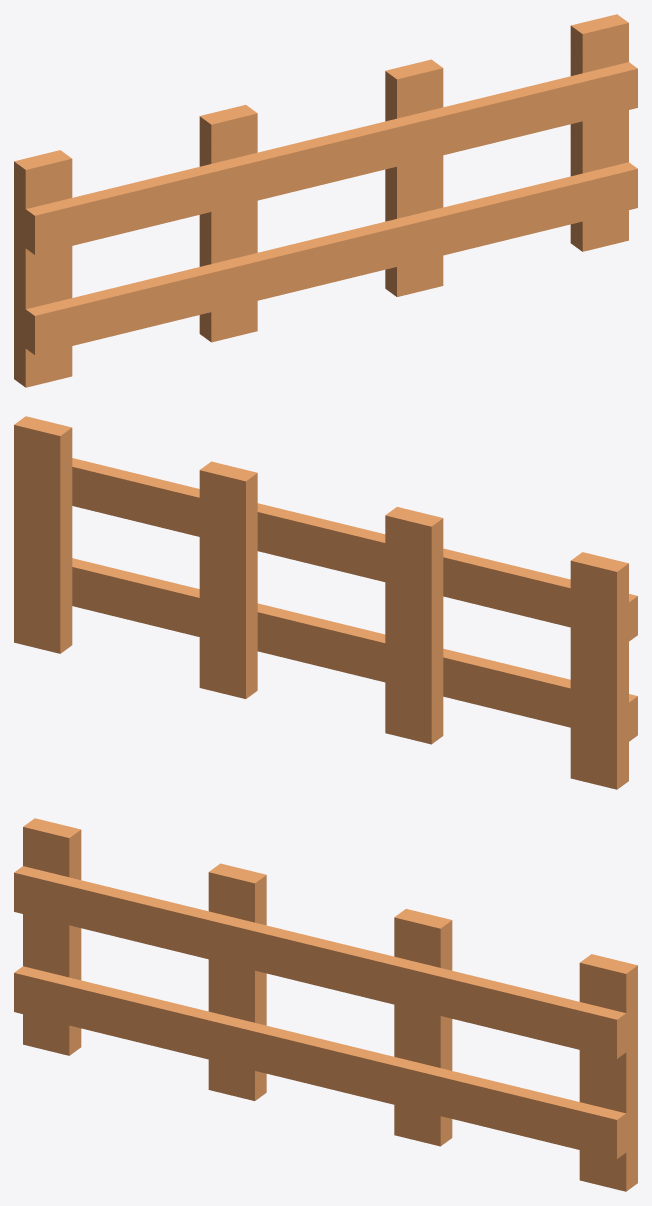
The model's file is fence_double.glb.
3 renders of one model, top to bottom at view 1: azimuth 30°, elevation 25°; view 2: azimuth 150°, elevation 25°; view 3: azimuth 330°, elevation 25°, orthographic.
Parts seen in each view (by area): view 1: fence_double.1; view 2: fence_double.1; view 3: fence_double.1.
Part boxes in pixels (box(x1,y1,x2,y2)): fence_double.1: box(14, 14, 637, 387); fence_double.1: box(14, 416, 637, 789); fence_double.1: box(14, 818, 637, 1191).
Size of the model in its own units: 10 by 3.45 by 0.5986.
